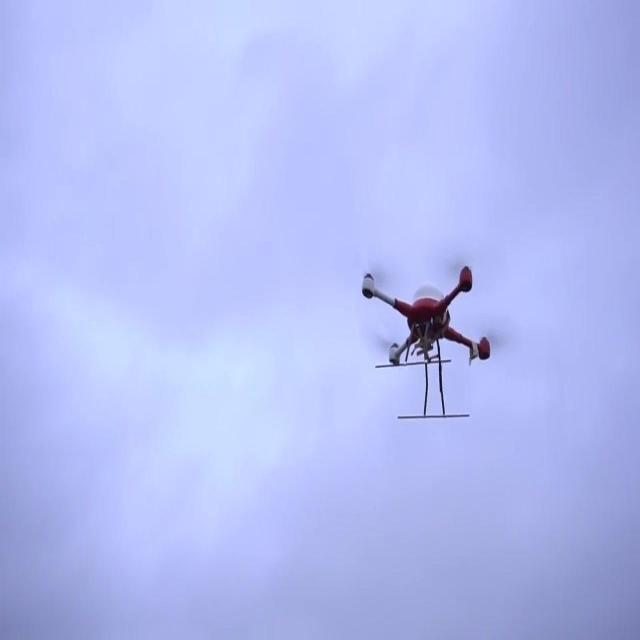drone: (362, 263, 491, 420)
